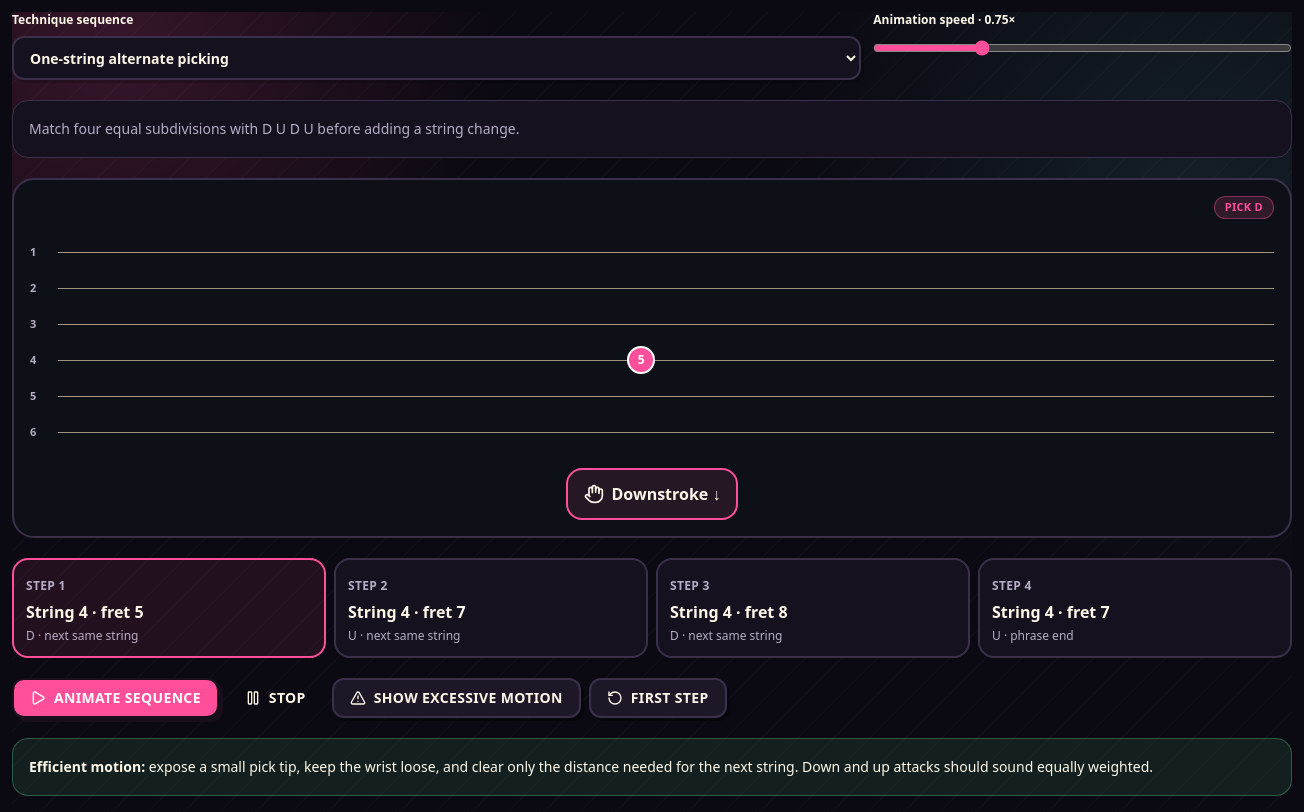
Test: PickingVisualizer › labels string-crossing relationships for each sequence
Select "Inside and outside crossings" in the dropdown labelled "Technique sequence". click: (437,58)
box: [12,36,861,80]
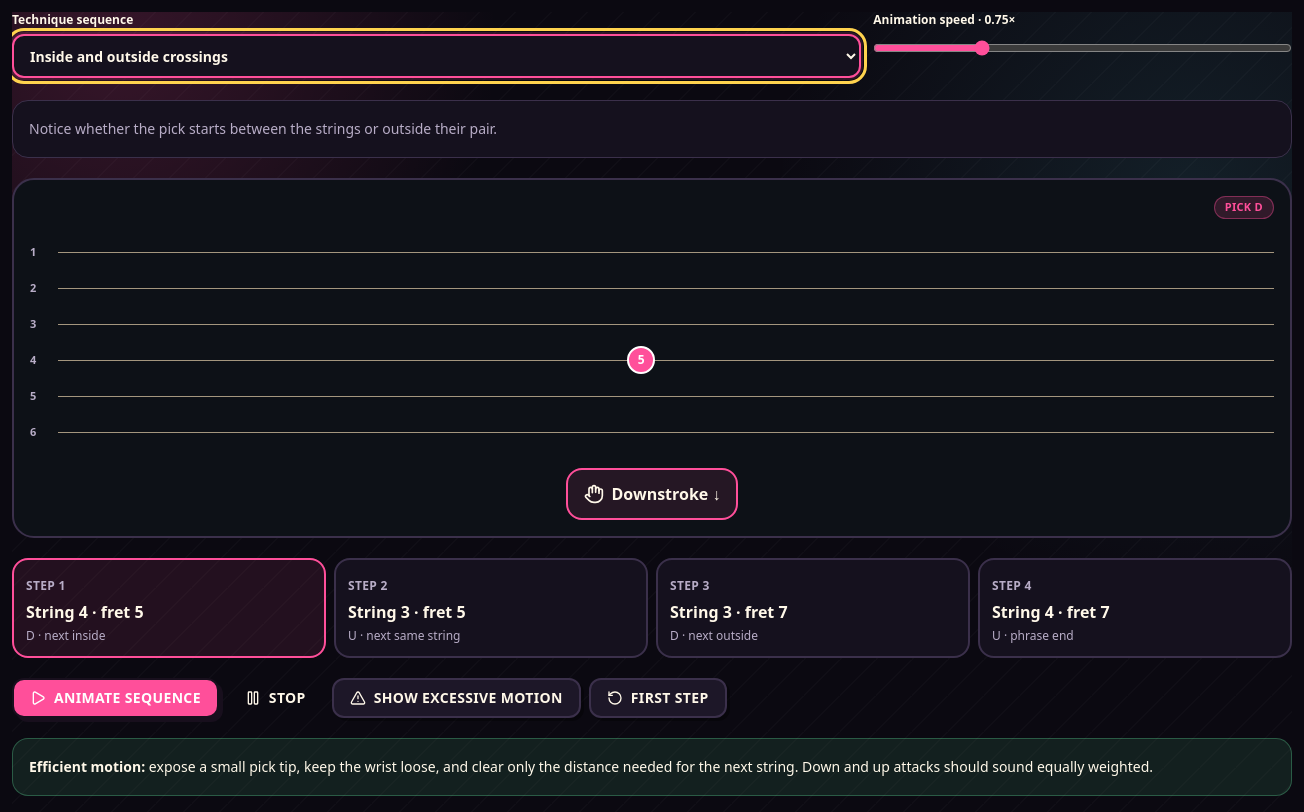
Result: the text "D · next inside" is shown at [26,627,106,644]
Click the button "Step 2 String 3 · fret 5 U · next same string". click: (364,586)
box: [334,558,648,658]
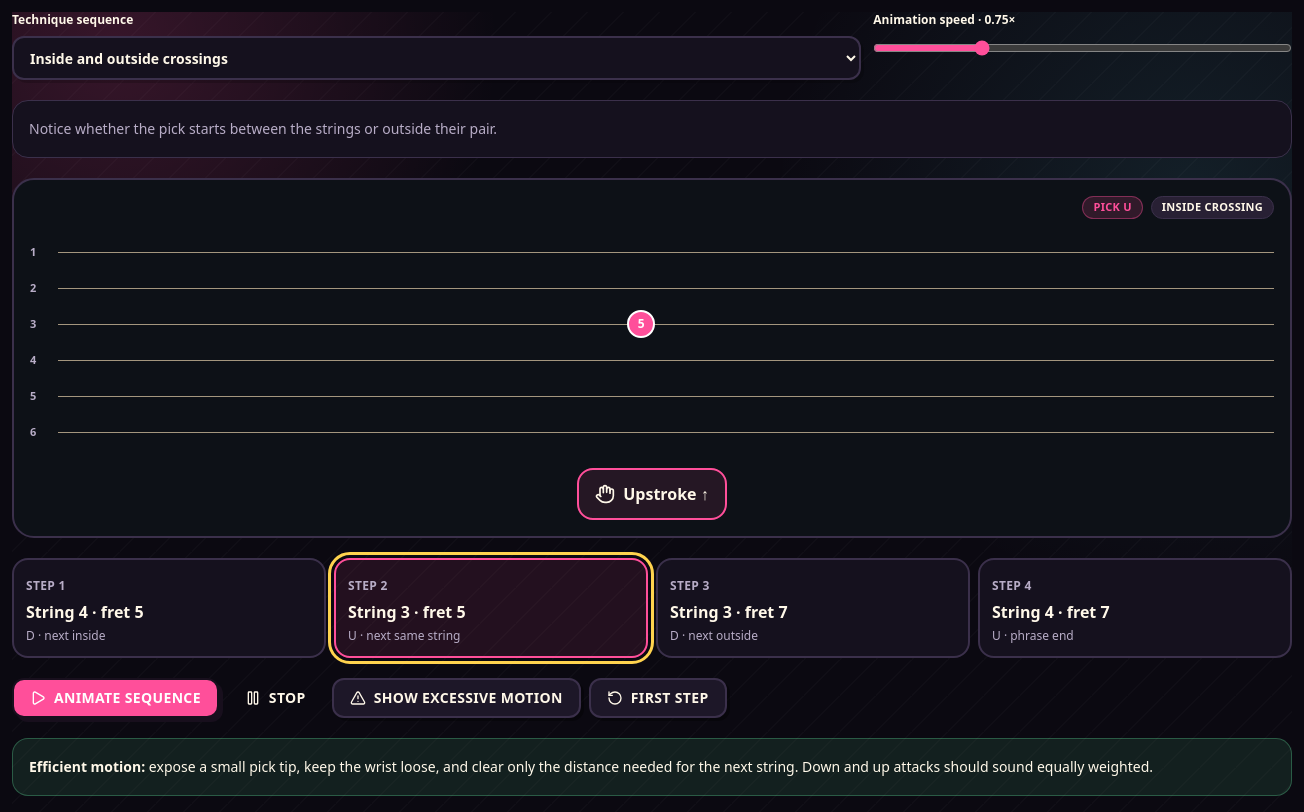
Result: the text "inside crossing" is shown at [1151,196,1274,218]
